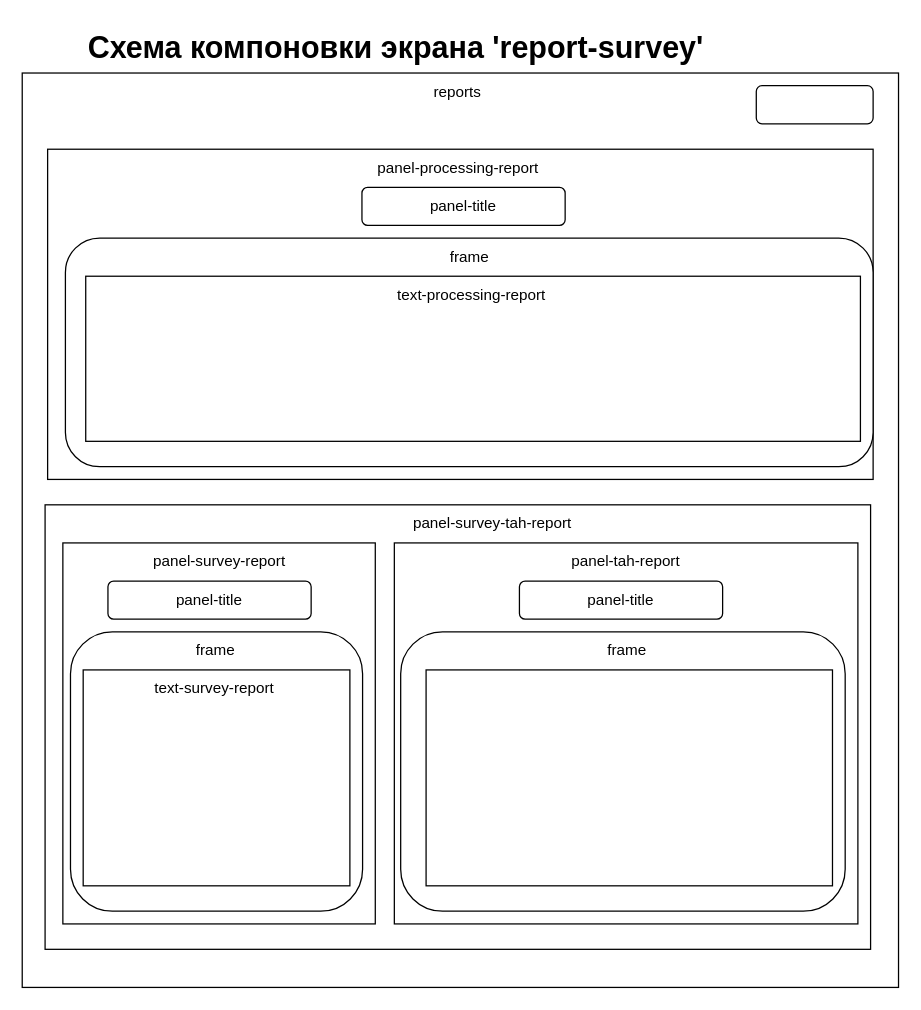
This 921x1010 diagram has some shape labels left out. Here are the shapes that lost their labels. From the top down, the centre of each, then its label:
point 814,104: button-close
point 628,777: text-tah-report
